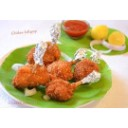chicken_lollipop: (13, 36, 48, 93), (49, 72, 102, 106), (32, 25, 62, 62), (46, 51, 80, 83), (74, 45, 104, 80)
